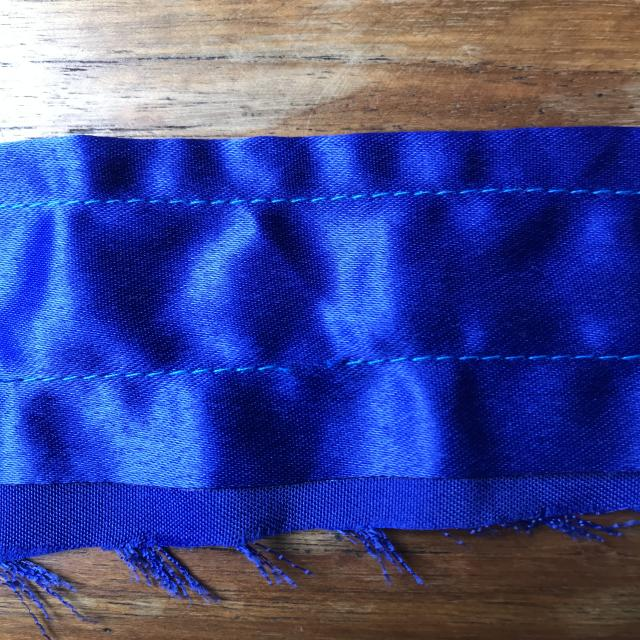broken: (244, 346, 415, 387)
good: (242, 182, 449, 218)
